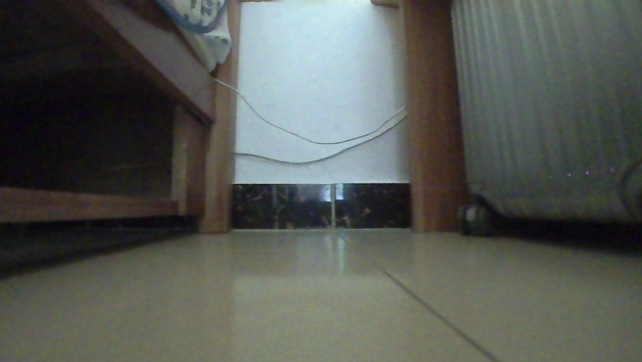bed1: (0, 0, 246, 236)
wire: (215, 71, 410, 166)
